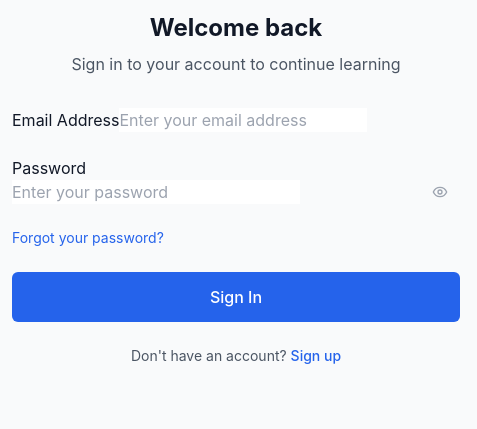
Test: SignInForm › validates required fields
This screenshot has width=477, height=429.
What coordinates should you click on to do the following:
click the button "Sign In"
I would click on:
 (236, 297)
Its box is [12,272,460,322].
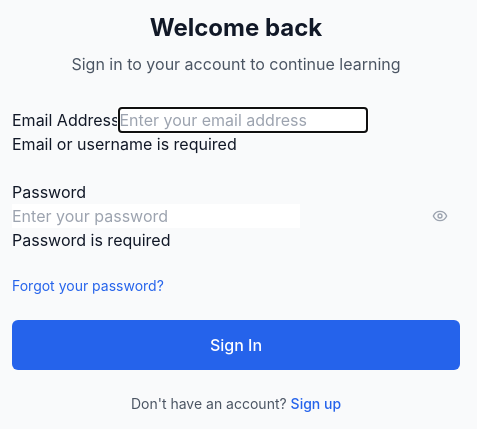
Expected: the text "Email or username is required" is shown, [12,134,237,154]
Expected: the text "Password is required" is shown, [12,230,170,250]
